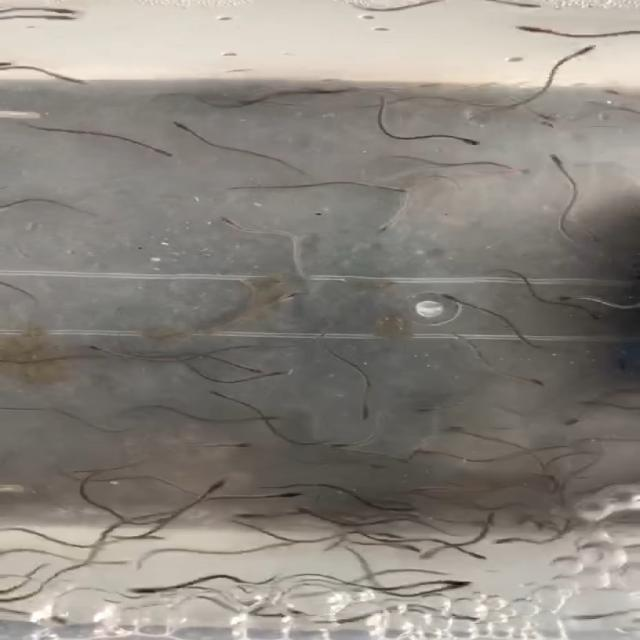active_glass_eel: (212, 213, 251, 234), (504, 22, 556, 35), (556, 412, 595, 429), (438, 132, 482, 147), (508, 372, 549, 388), (428, 583, 482, 595), (52, 71, 92, 87), (209, 390, 246, 407), (118, 583, 166, 596), (567, 43, 603, 59), (503, 0, 547, 13), (274, 487, 312, 502), (41, 6, 87, 18), (165, 116, 192, 136), (352, 403, 379, 423), (429, 574, 474, 586), (546, 151, 574, 170), (408, 443, 441, 459), (288, 505, 332, 517), (388, 542, 428, 555), (371, 185, 409, 198), (328, 439, 366, 452), (41, 12, 81, 24), (552, 290, 592, 302), (200, 478, 230, 494), (148, 144, 182, 158), (83, 344, 122, 356), (417, 543, 444, 560), (497, 165, 535, 177), (494, 533, 528, 546), (413, 400, 446, 413), (238, 362, 273, 374), (280, 286, 298, 306), (438, 292, 470, 303), (374, 216, 391, 236), (458, 549, 487, 560), (229, 438, 255, 449)
